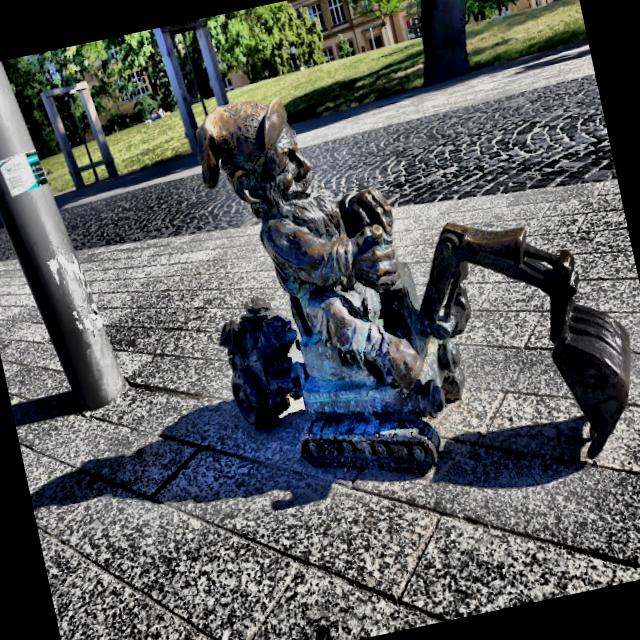Koparkus: (197, 99, 631, 471)
